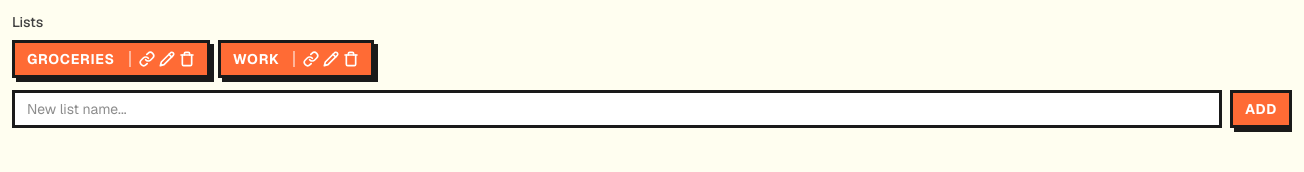
Test: ListSelector › deletes a list and selects the next one
expect the text "Groceries" is shown: met, box [27,49,115,69]
Click the button named "Delete Groceries": (187, 59) [179,51,195,67]
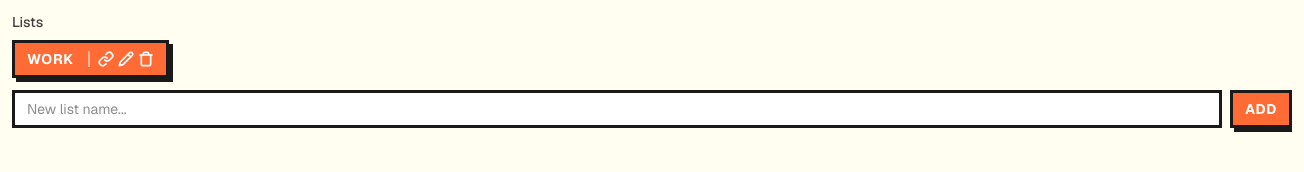
expect the button "Groceries" is gone: met
